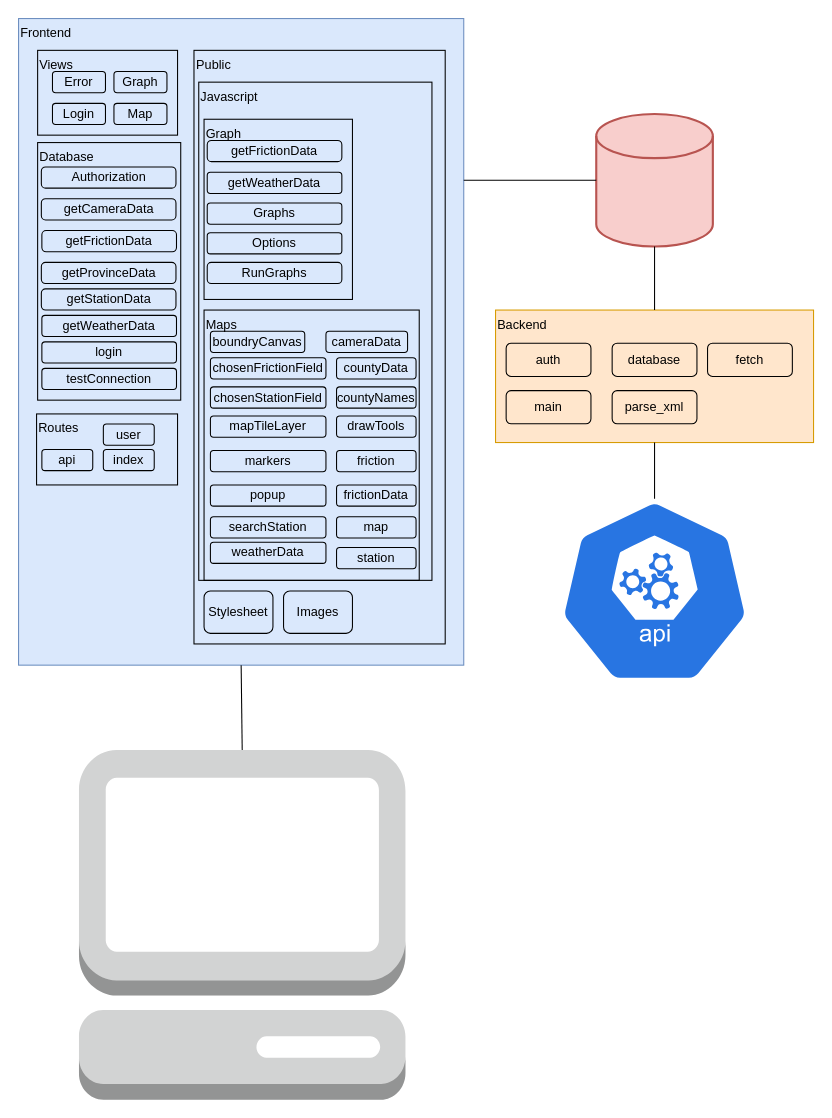
Some shapes in this 832 by 1118 pixel diagram are drawn without their labels. The shapes that lost their labels are listed below. From the top down, each one's centre as x and y in pixels, then its label:
the point at 654,179: MySQL
the point at 654,590: DATEX II
